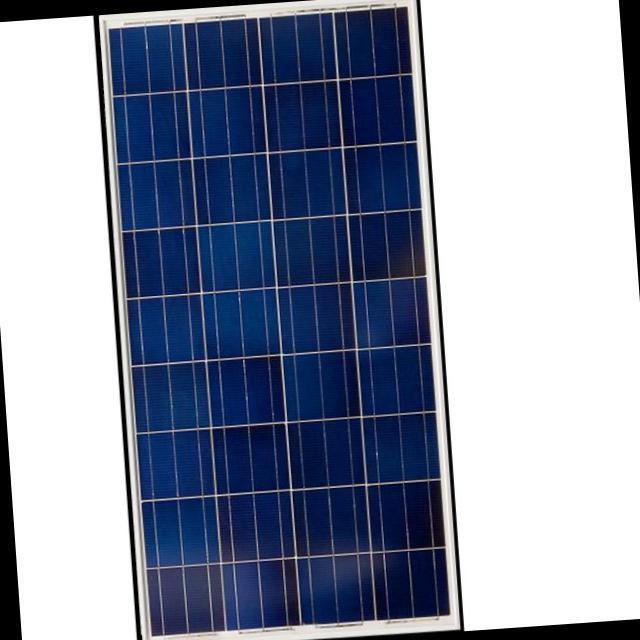no faulty: (110, 1, 446, 636)
